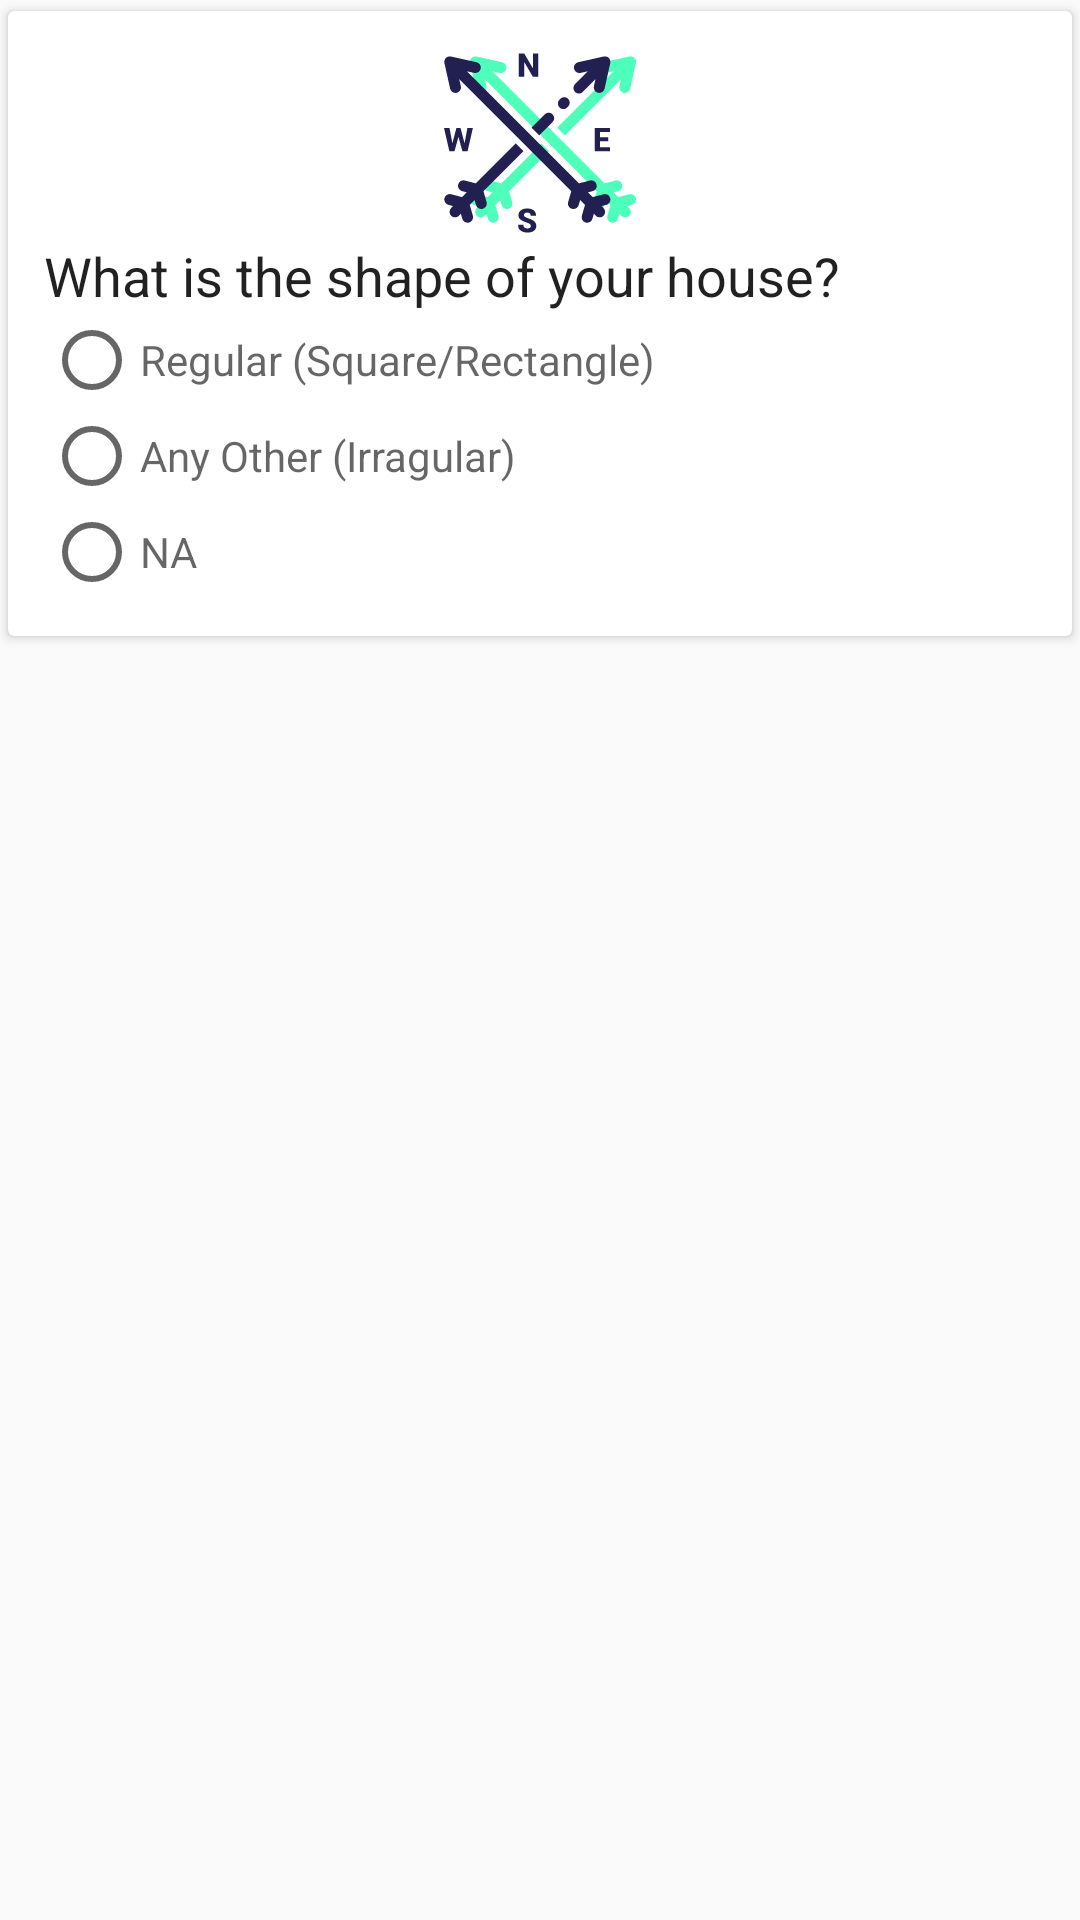

Where to tap for icons on this 1080px x 1920px app screen, as (x=x, y=y):
cardinal point: (x=540, y=143)
